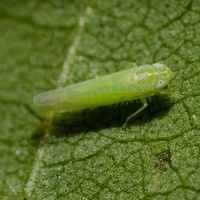insect: (34, 63, 171, 125)
